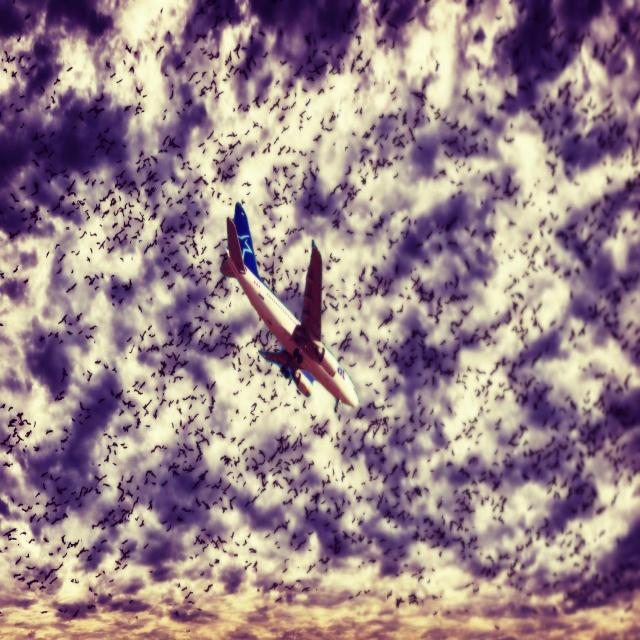airplane: (218, 200, 359, 412)
